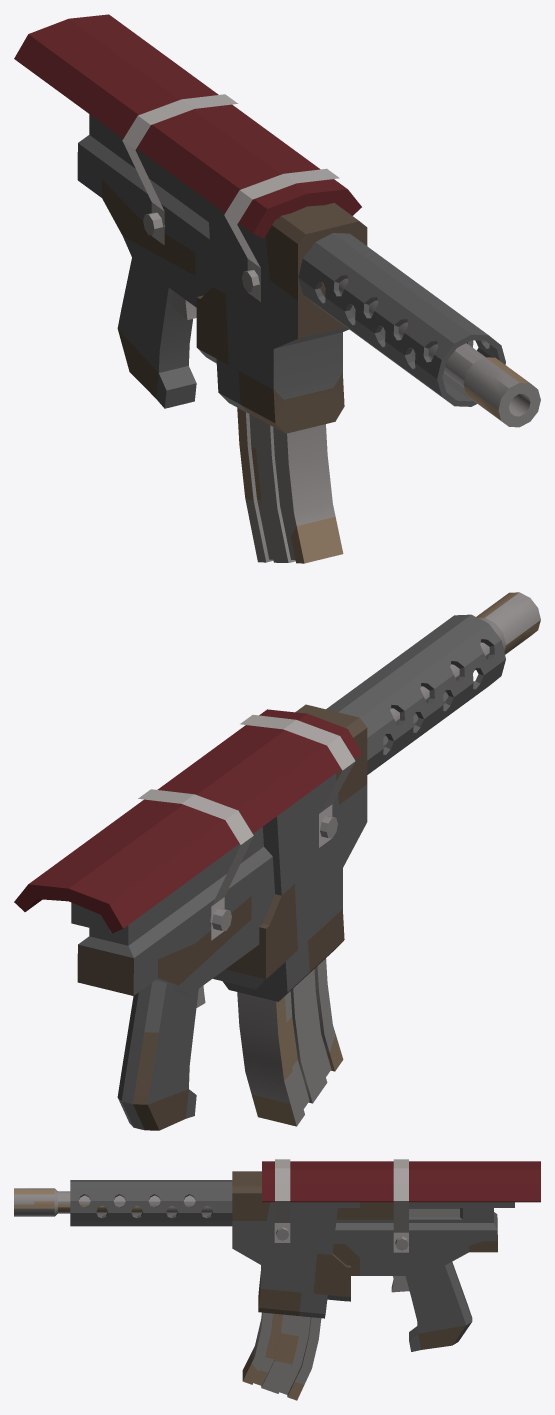
Rendered from gun_smg.glb.
3 views of the same model, one above another, from view 1: azimuth 30°, elevation 25°; view 2: azimuth 150°, elevation 25°; view 3: azimuth 270°, elevation 25° (orthographic). The views are drawn at different scales.
Visible parts, largest first — view 1: SMG; view 2: SMG; view 3: SMG.
Boxes of the visible parts, x1,y1,x2,y2 form: SMG: (14, 14, 540, 563); SMG: (14, 592, 540, 1130); SMG: (14, 1159, 540, 1400).
Bounding box in the file's own units: 0.1507 × 0.4719 × 0.994.
Materials: 1 (1 with a texture image).
